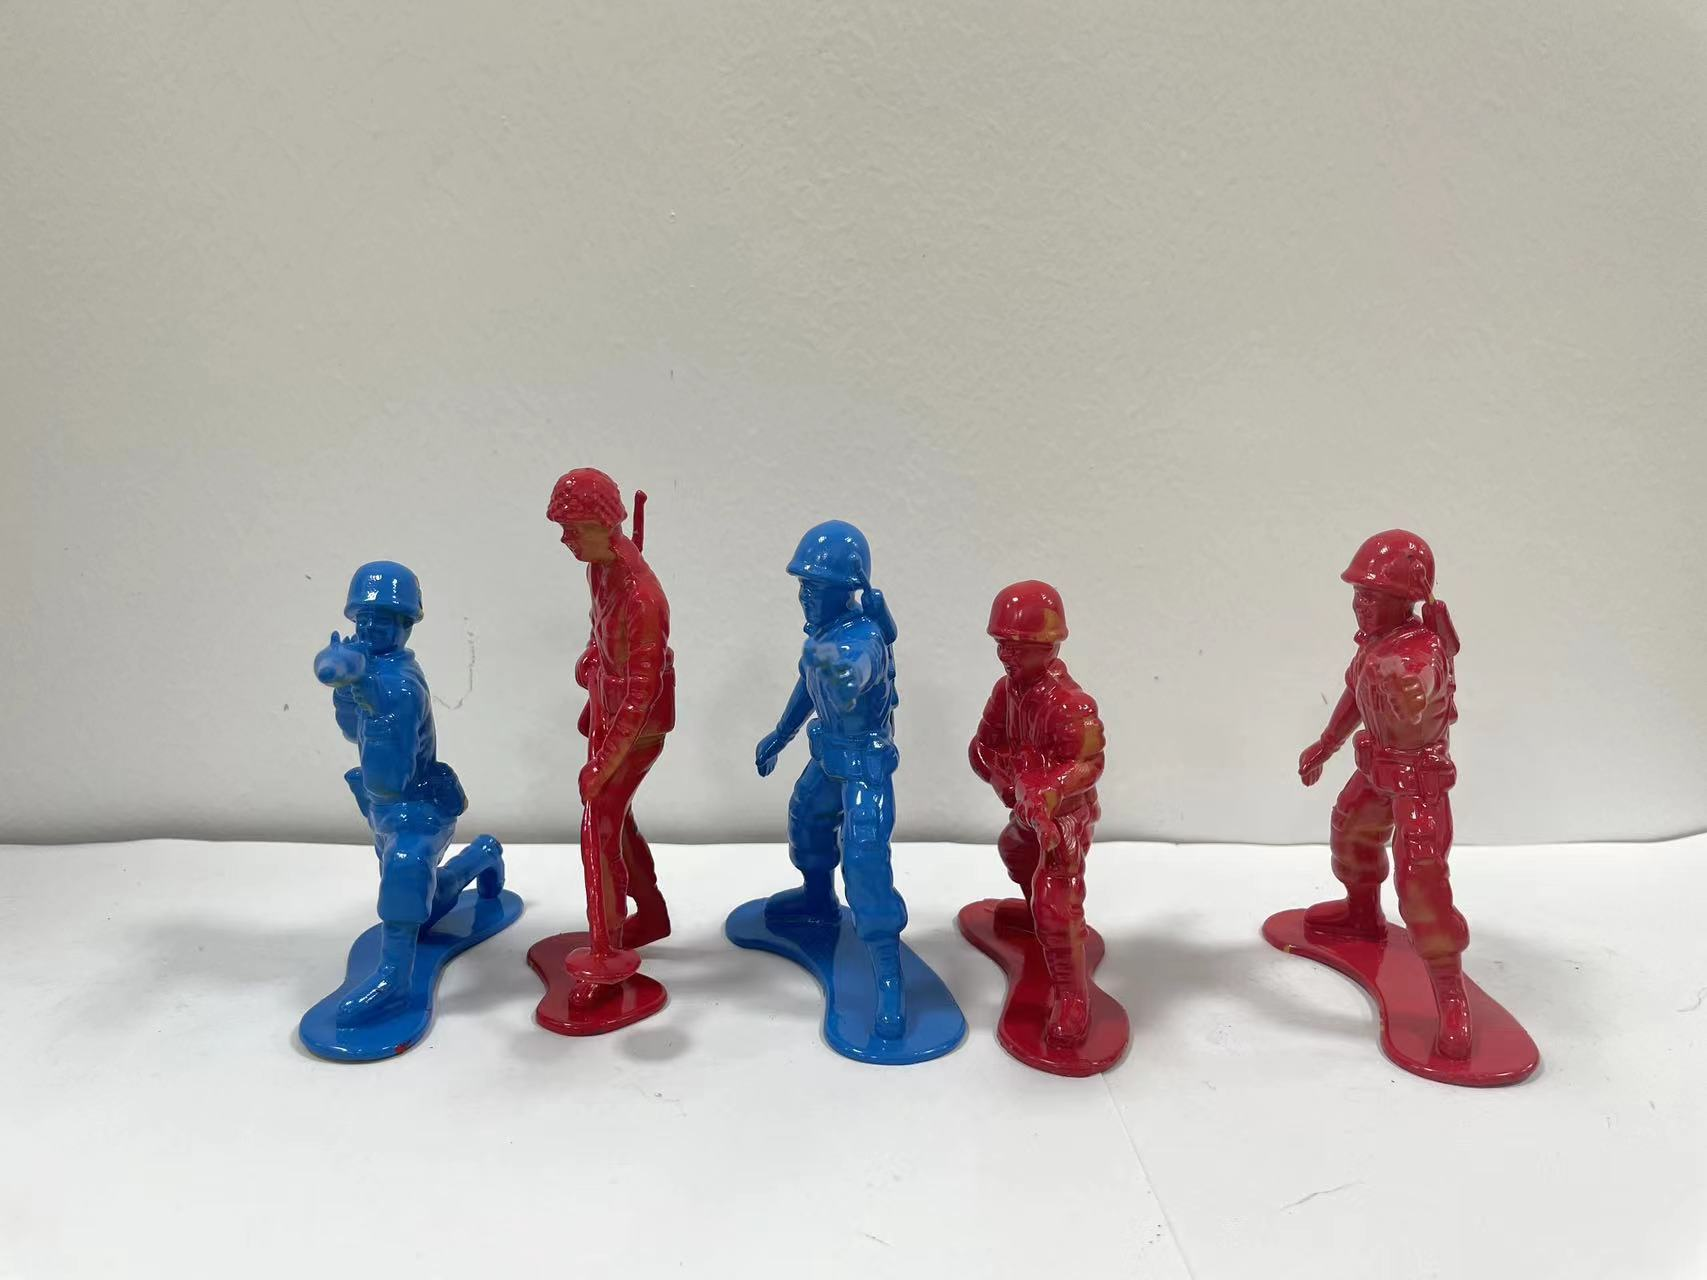blue: (241, 519, 526, 1089), (737, 502, 958, 1107)
red: (1251, 504, 1593, 1116), (505, 433, 718, 1111), (927, 575, 1176, 1086)
